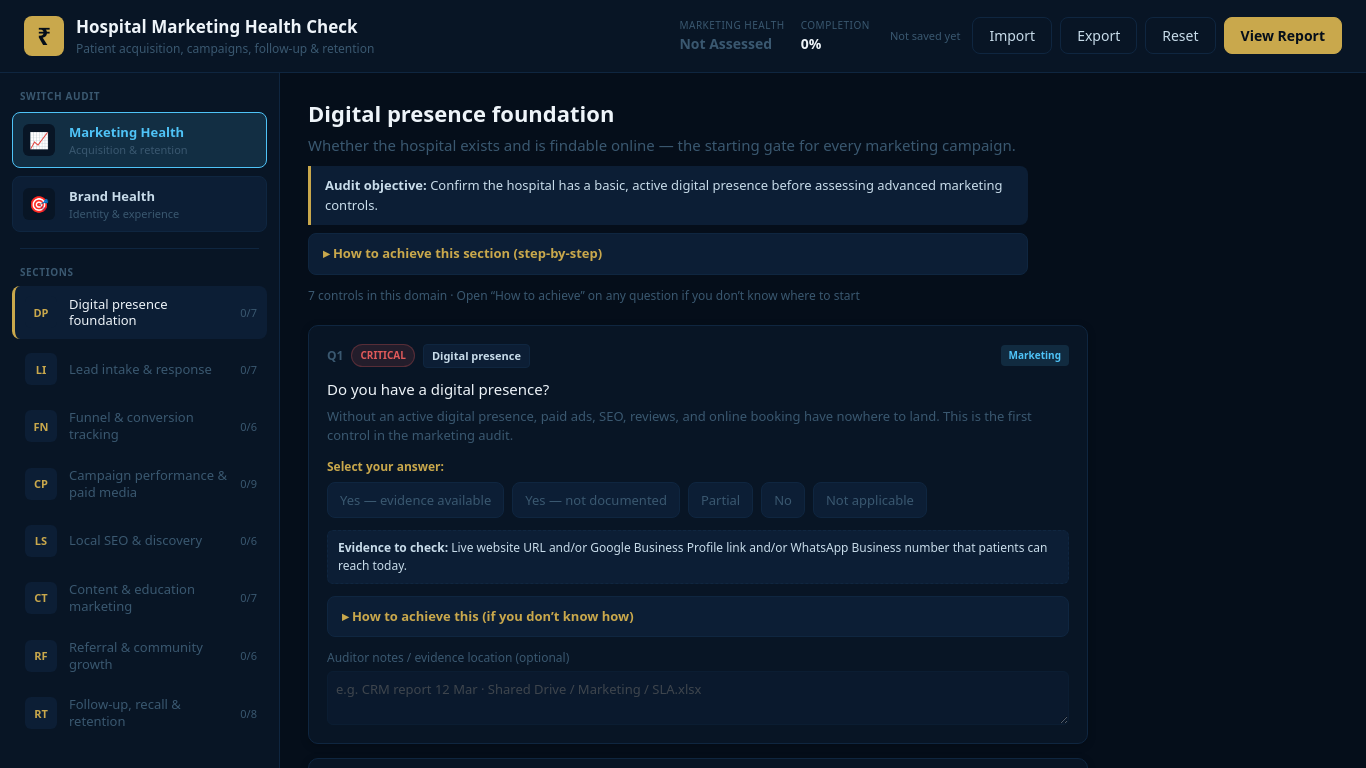
Test: navigates to the brand health page
Click the button "🎯 Brand Health Identity & experience" at (140, 204), box [12, 176, 267, 232]
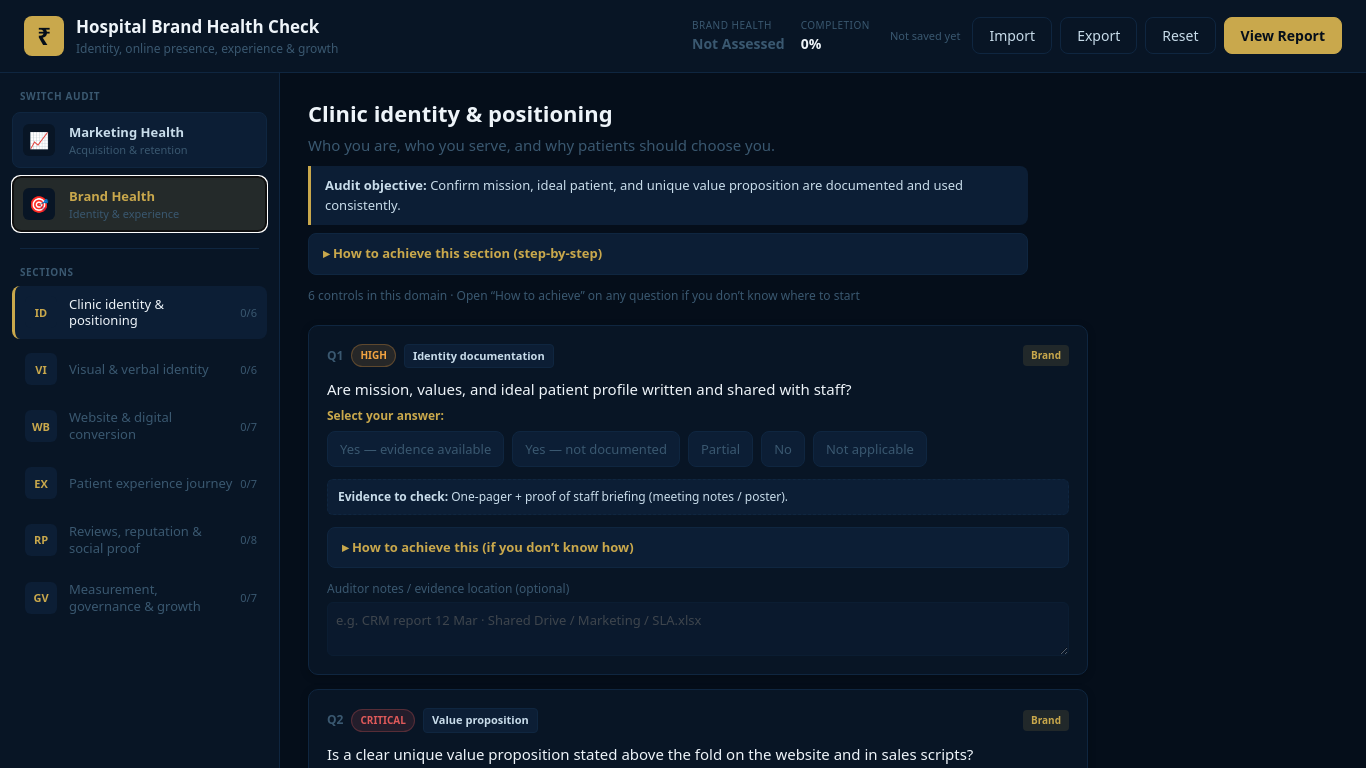
Check: the heading "Hospital Brand Health Check" is shown, box [76, 14, 338, 40]
Check: the button "ID Clinic identity & positioning 0/6" is shown, box [12, 286, 267, 339]
